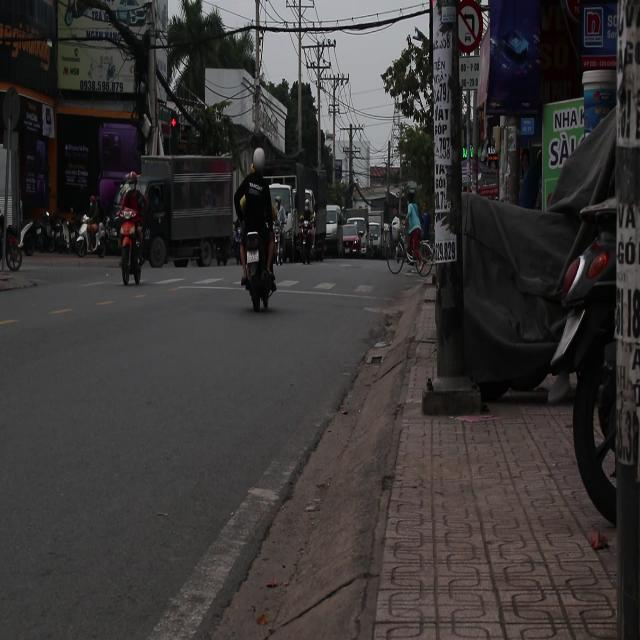motorbike: (242, 216, 276, 316), (114, 214, 142, 290), (73, 209, 105, 257)
truck: (138, 156, 233, 272), (318, 203, 344, 256), (340, 212, 371, 256), (326, 205, 344, 241)
